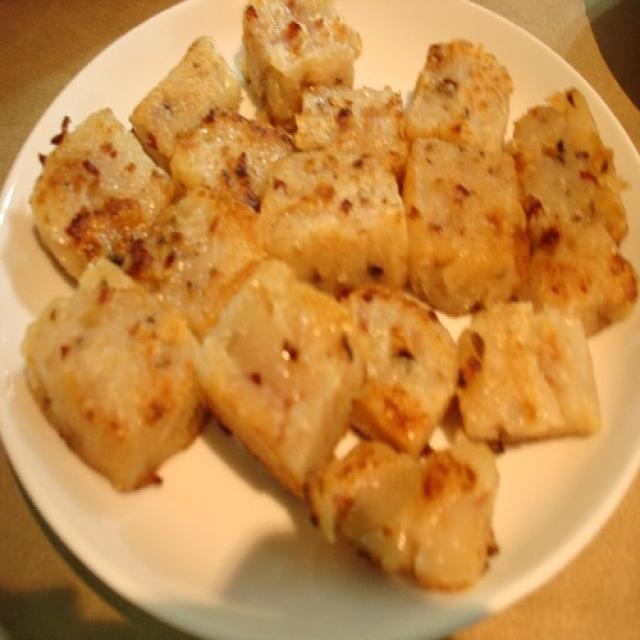蛋糕甜品: (13, 5, 635, 618)
